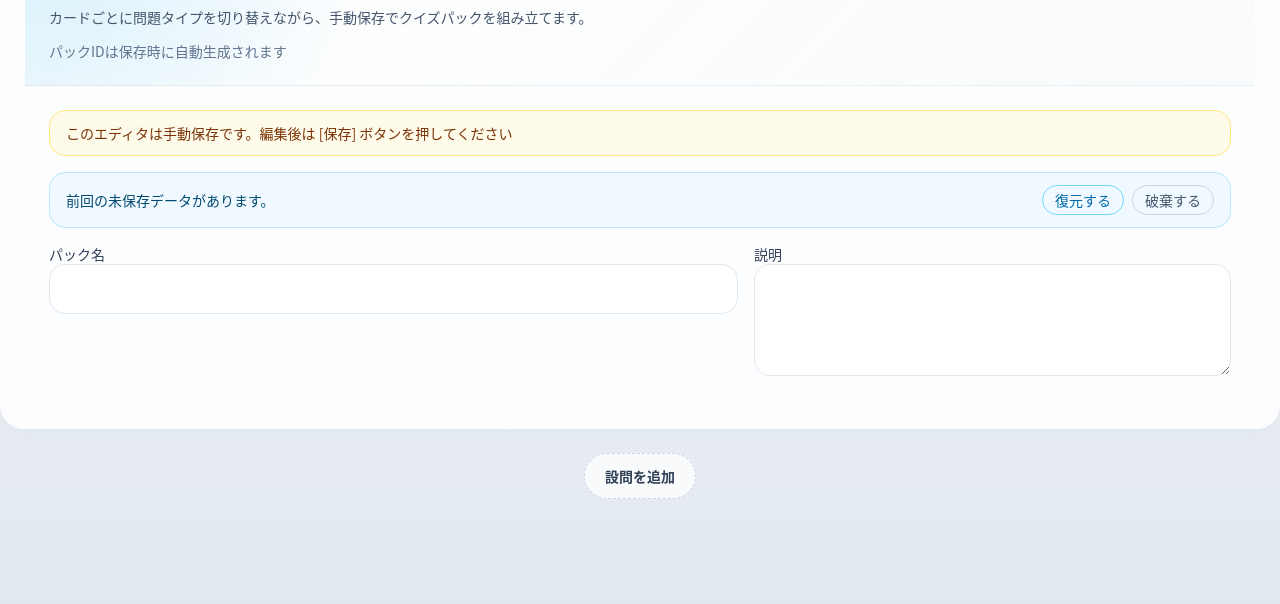
Scenario: QuizEditorPage › クラッシュリカバリ › 「復元する」を選択するとリカバリデータでフォームを復元する
The width and height of the screenshot is (1280, 604).
Click the button "復元する". click: [1083, 200]
box: [1042,185,1124,215]
(page scrolled)
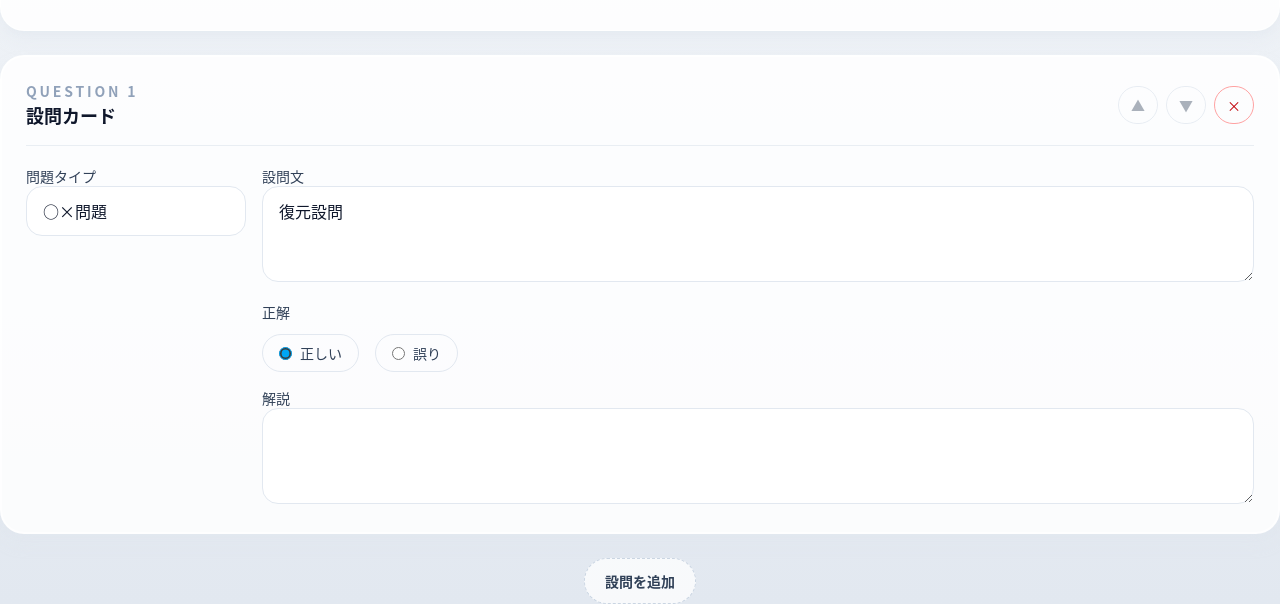
expect the element with test id "question-card-q1" is shown: met
expect the text "前回の未保存データがあります。" is gone: met
